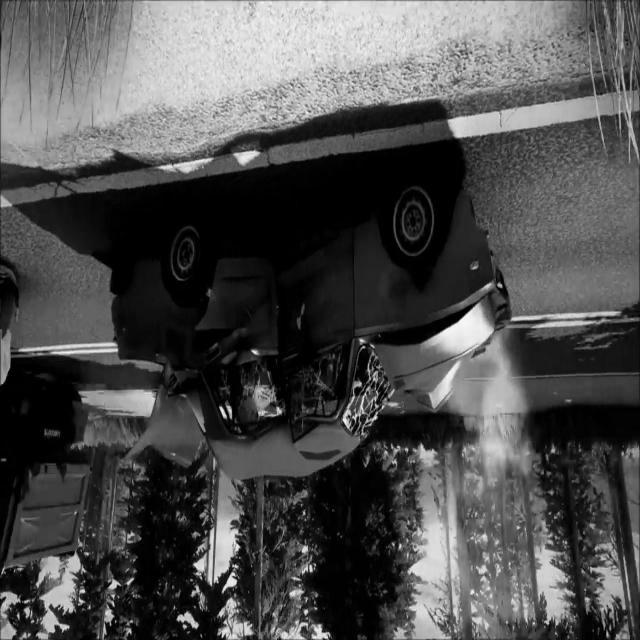severe: (106, 176, 514, 489)
